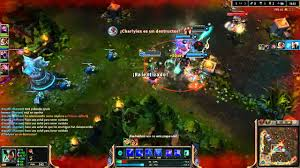bar: (225, 10, 249, 18), (138, 51, 163, 58), (186, 25, 210, 32), (184, 52, 208, 58), (175, 34, 197, 40)
